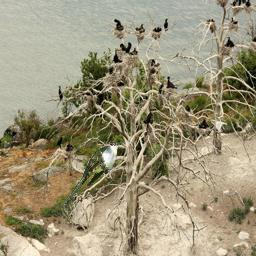Cuckoo: (63, 141, 123, 208)
